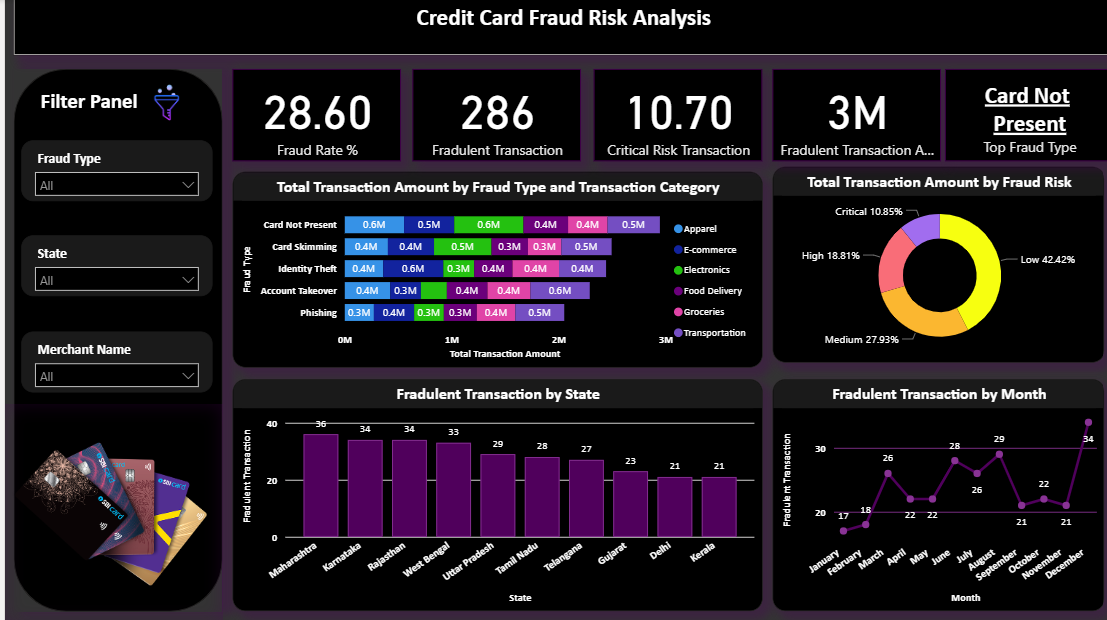

This screenshot's page, from the dashboard's own definition file:
{"tool":"powerbi","page":{"name":"Page 1","canvas":[1280,720],"ordinal":0},"visuals":[{"type":"textbox","box":[10.1,0,1269.6,64.9],"z":0},{"type":"shape","box":[10.1,80.8,240.9,626.2],"z":1000},{"type":"textbox","box":[36.1,98.1,163,41.8],"z":2000},{"type":"image","box":[134.2,89.5,105.3,60.6],"z":3000},{"type":"barChart","fields":{"Category":["Credit Card Fraud Risk Analysis.Fraud Type"],"Y":["Credit Card Fraud Risk Analysis.Total Transaction Amount"],"Series":["Credit Card Fraud Risk Analysis.Transaction Category"]},"box":[262.6,199.1,611.7,226.5],"z":4000},{"type":"donutChart","fields":{"Y":["Credit Card Fraud Risk Analysis.Total Transaction Amount"],"Category":["Credit Card Fraud Risk Analysis.Fraud Risk"]},"box":[885.9,193.3,383.8,226.5],"z":5000},{"type":"columnChart","fields":{"Category":["Credit Card Fraud Risk Analysis.State"],"Y":["Credit Card Fraud Risk Analysis.Fradulent Transaction"]},"box":[262.6,438.6,611.7,268.4],"z":6000},{"type":"lineChart","fields":{"Y":["Credit Card Fraud Risk Analysis.Fradulent Transaction"],"Category":["Credit Card Fraud Risk Analysis.Transaction Date.Variation.Date Hierarchy.Month"]},"box":[885.9,438.6,383.8,268.4],"z":7000},{"type":"slicer","fields":{"Values":["Credit Card Fraud Risk Analysis.Fraud Type"]},"box":[18.8,163,220.7,70.7],"z":8000},{"type":"slicer","fields":{"Values":["Credit Card Fraud Risk Analysis.State"]},"box":[18.8,272.7,220.7,70.7],"z":9000},{"type":"slicer","fields":{"Values":["Credit Card Fraud Risk Analysis.Merchant Name"]},"box":[18.8,383.8,220.7,70.7],"z":10000},{"type":"card","title":"F","fields":{"Values":["Credit Card Fraud Risk Analysis.Fraud Rate %"]},"box":[262.6,80.8,194.8,106.8],"z":11000},{"type":"card","fields":{"Values":["Credit Card Fraud Risk Analysis.Fradulent Transaction"]},"box":[470.3,80.8,194.8,106.8],"z":12000},{"type":"card","fields":{"Values":["Credit Card Fraud Risk Analysis.Critical Risk Transaction"]},"box":[679.5,80.8,194.8,106.8],"z":13000},{"type":"card","fields":{"Values":["Credit Card Fraud Risk Analysis.Fradulent Transaction Amount"]},"box":[885.9,80.8,194.8,106.8],"z":14000},{"type":"card","fields":{"Values":["Credit Card Fraud Risk Analysis.Top Fraud Type"]},"box":[1085,80.8,194.8,106.8],"z":15000},{"type":"image","box":[0,467.5,251,252.5],"z":15001}]}

Visuals, with their boxes in screenshot pixels (x1, y1, x2, y2), scaled from the page's 1280x720 canvas onto the 1107x620 screenshot:
textbox: detection(9, 0, 1106, 56)
shape: detection(9, 70, 217, 609)
textbox: detection(31, 84, 172, 120)
image: detection(116, 77, 207, 129)
barChart - Credit Card Fraud Risk Analysis.Fraud Type x Credit Card Fraud Risk Analysis.Total Transaction Amount: detection(227, 171, 756, 366)
donutChart - Credit Card Fraud Risk Analysis.Total Transaction Amount x Credit Card Fraud Risk Analysis.Fraud Risk: detection(766, 166, 1098, 361)
columnChart - Credit Card Fraud Risk Analysis.State x Credit Card Fraud Risk Analysis.Fradulent Transaction: detection(227, 378, 756, 609)
lineChart - Credit Card Fraud Risk Analysis.Fradulent Transaction x Credit Card Fraud Risk Analysis.Transaction Date.Variation.Date Hierarchy.Month: detection(766, 378, 1098, 609)
slicer - Credit Card Fraud Risk Analysis.Fraud Type: detection(16, 140, 207, 201)
slicer - Credit Card Fraud Risk Analysis.State: detection(16, 235, 207, 296)
slicer - Credit Card Fraud Risk Analysis.Merchant Name: detection(16, 330, 207, 391)
"F" card: detection(227, 70, 396, 162)
card - Credit Card Fraud Risk Analysis.Fradulent Transaction: detection(407, 70, 575, 162)
card - Credit Card Fraud Risk Analysis.Critical Risk Transaction: detection(588, 70, 756, 162)
card - Credit Card Fraud Risk Analysis.Fradulent Transaction Amount: detection(766, 70, 935, 162)
card - Credit Card Fraud Risk Analysis.Top Fraud Type: detection(938, 70, 1106, 162)
image: detection(0, 403, 217, 619)
